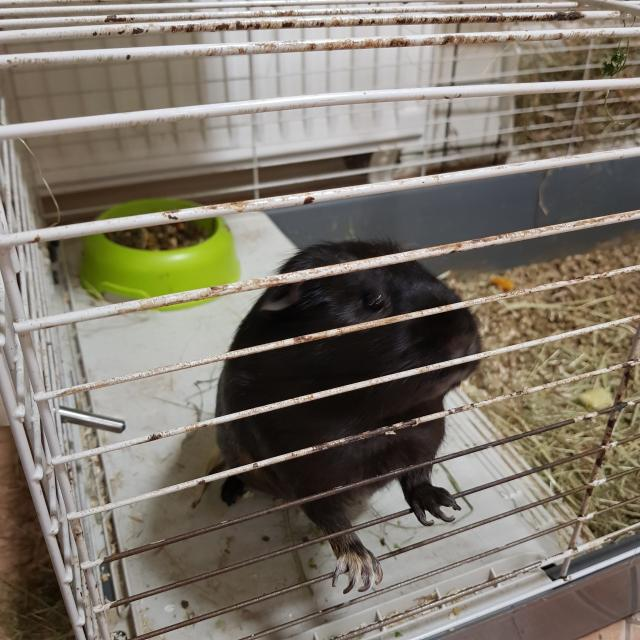guinea pig: (211, 238, 485, 594)
